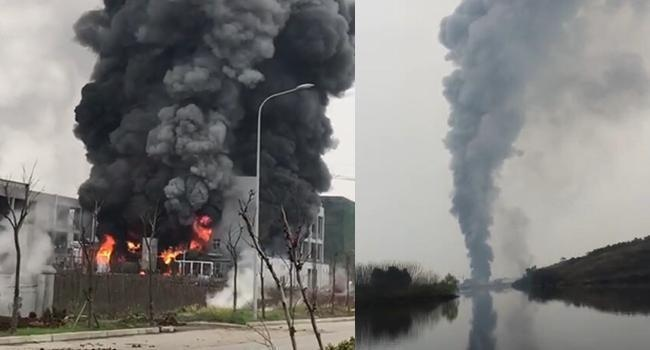fire: (161, 214, 214, 268), (94, 232, 117, 265)
